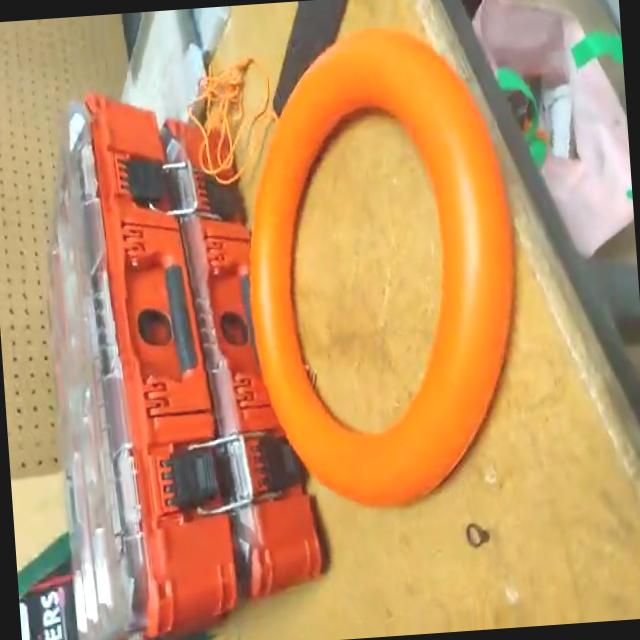note: (226, 20, 536, 526)
